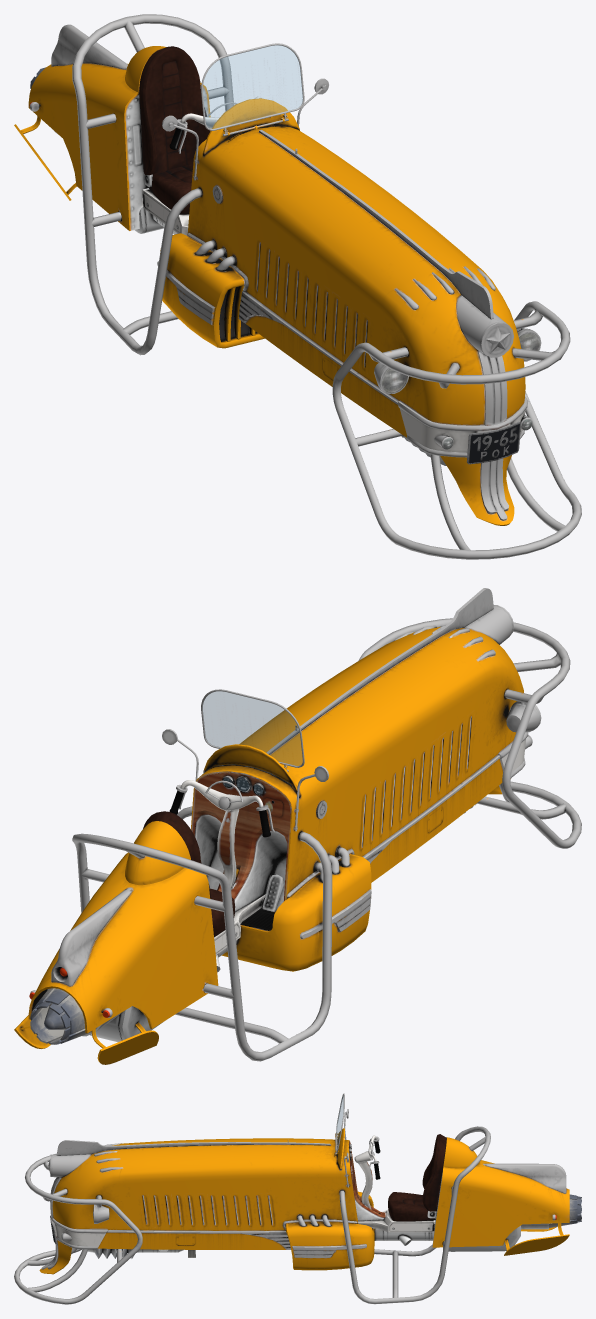
The picture shows the model from 3 angles, top to bottom: view 1: azimuth 30°, elevation 25°; view 2: azimuth 150°, elevation 25°; view 3: azimuth 270°, elevation 25°; orthographic projection. The views are drawn at different scales.
Parts seen in each view (by area): view 1: Geode (×3); view 2: Geode (×2); view 3: Geode.
Boxes of the visible parts, x1,y1,x2,y2 form: Geode (×3): (14, 14, 581, 559); Geode (×2): (14, 588, 581, 1064); Geode: (14, 1093, 581, 1304).
Size of the model in its own units: 102 by 159 by 460.
3 materials, 3 textured.
